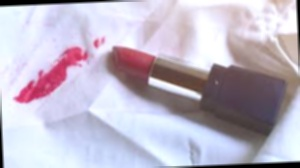lipstick: (16, 55, 91, 102), (58, 39, 99, 77), (85, 34, 107, 51)
